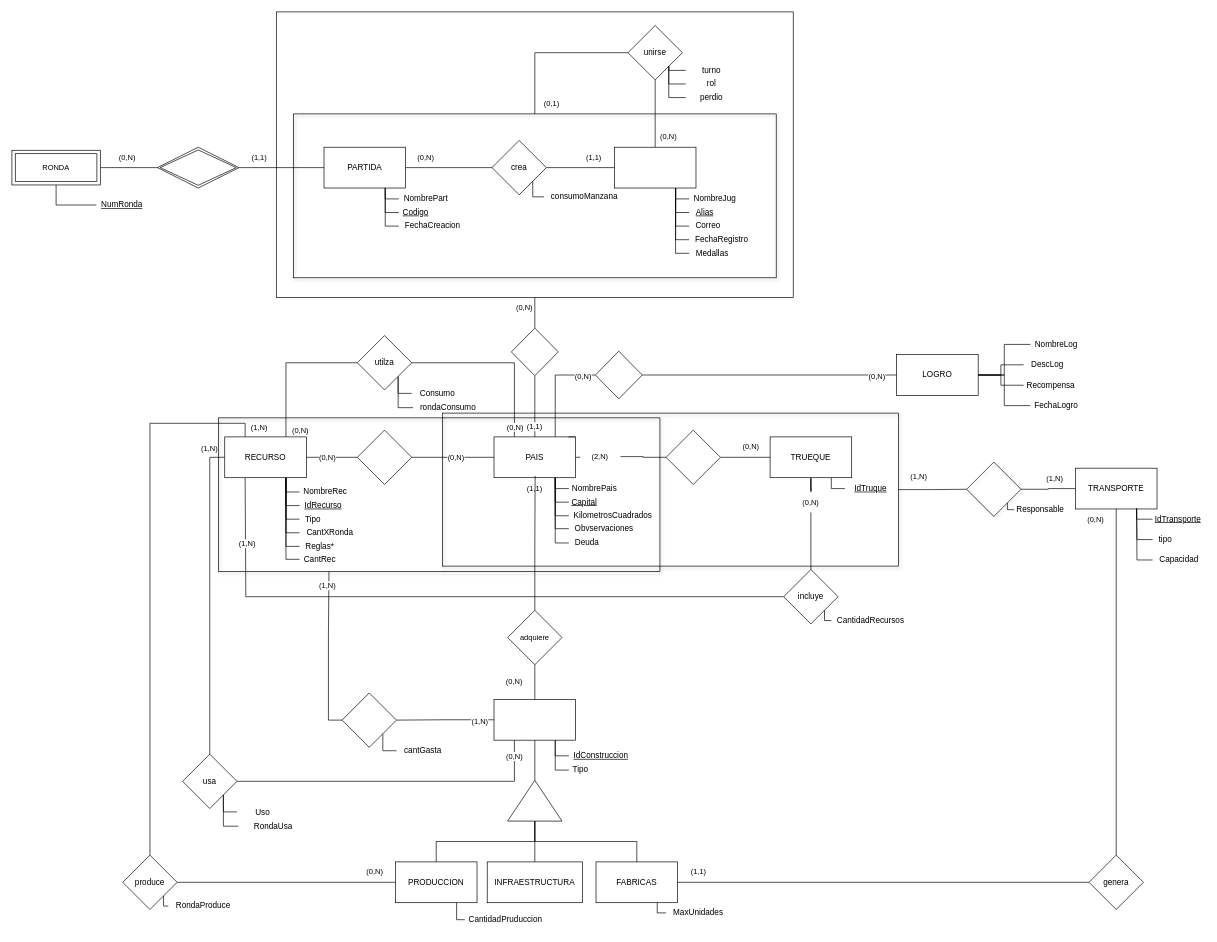
Some shapes in this 1217 by 942 pixel diagram are drawn without their labels. The centre of each missing label's shape, as x and y in pixels:
"consigue" belongs at pixel 618 375.
"CONSTRUCCION" belongs at pixel 534 719.
"contiene" belongs at pixel 198 167.
"controla" belongs at pixel 534 351.
"gasta" belongs at pixel 368 719.
"involucra" belongs at pixel 692 457.
"JUGADOR" belongs at pixel 655 167.
"tiene" belongs at pixel 384 457.
"traslado" belongs at pixel 994 490.
